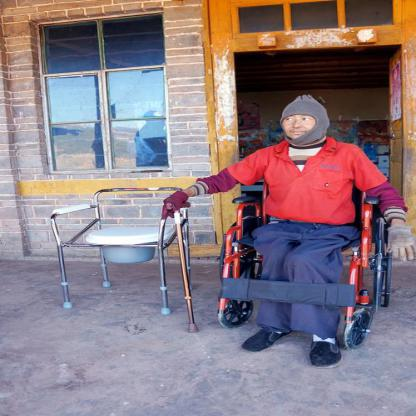wheelchair: (172, 92, 416, 371)
